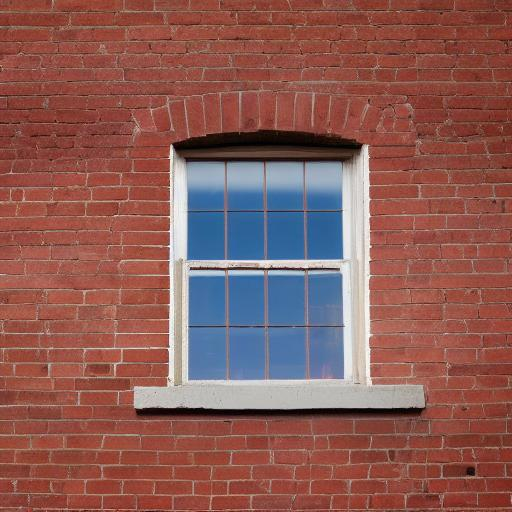Window: (135, 94, 428, 412)
